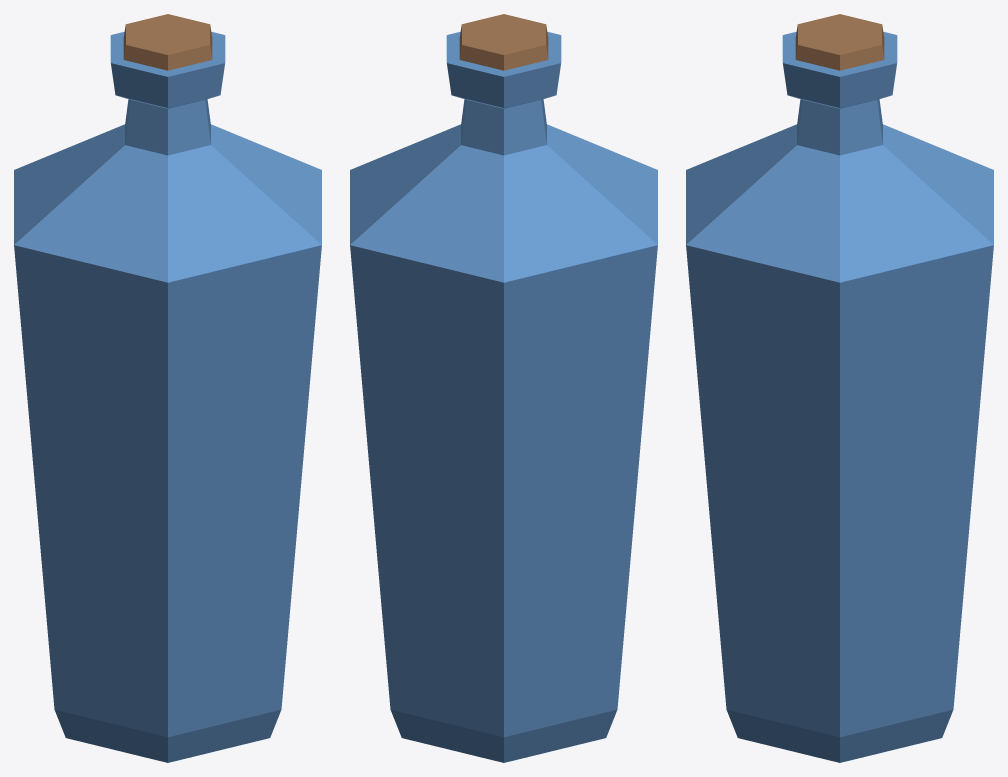
Rendered from Blue_Potion_13.fbx.
The picture shows the model from 3 angles, left to right: view 1: azimuth 30°, elevation 25°; view 2: azimuth 150°, elevation 25°; view 3: azimuth 270°, elevation 25°; orthographic projection.
Parts seen in each view (by area): view 1: Blue_Potion_13; view 2: Blue_Potion_13; view 3: Blue_Potion_13.
Part boxes in pixels (x1,y1,x2,y2): Blue_Potion_13: [14, 14, 321, 762]; Blue_Potion_13: [350, 14, 657, 762]; Blue_Potion_13: [686, 14, 993, 762].
Bounding box in the file's own units: 17.9 × 37.69 × 15.5.
